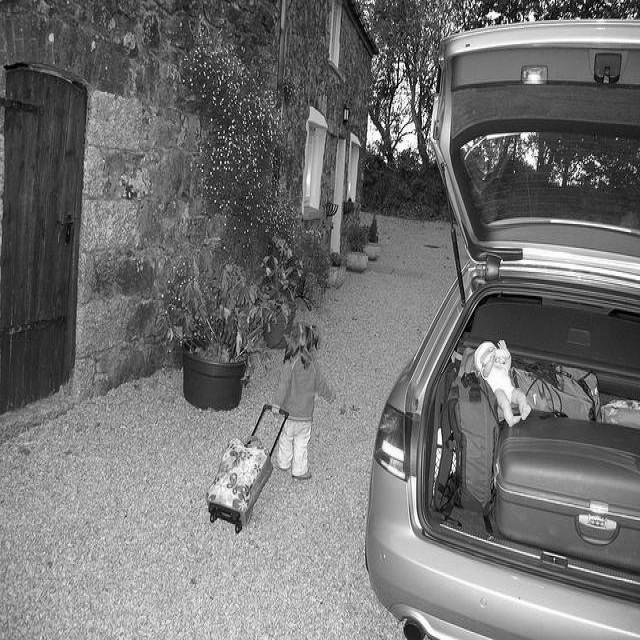vehicle: (366, 24, 640, 634)
